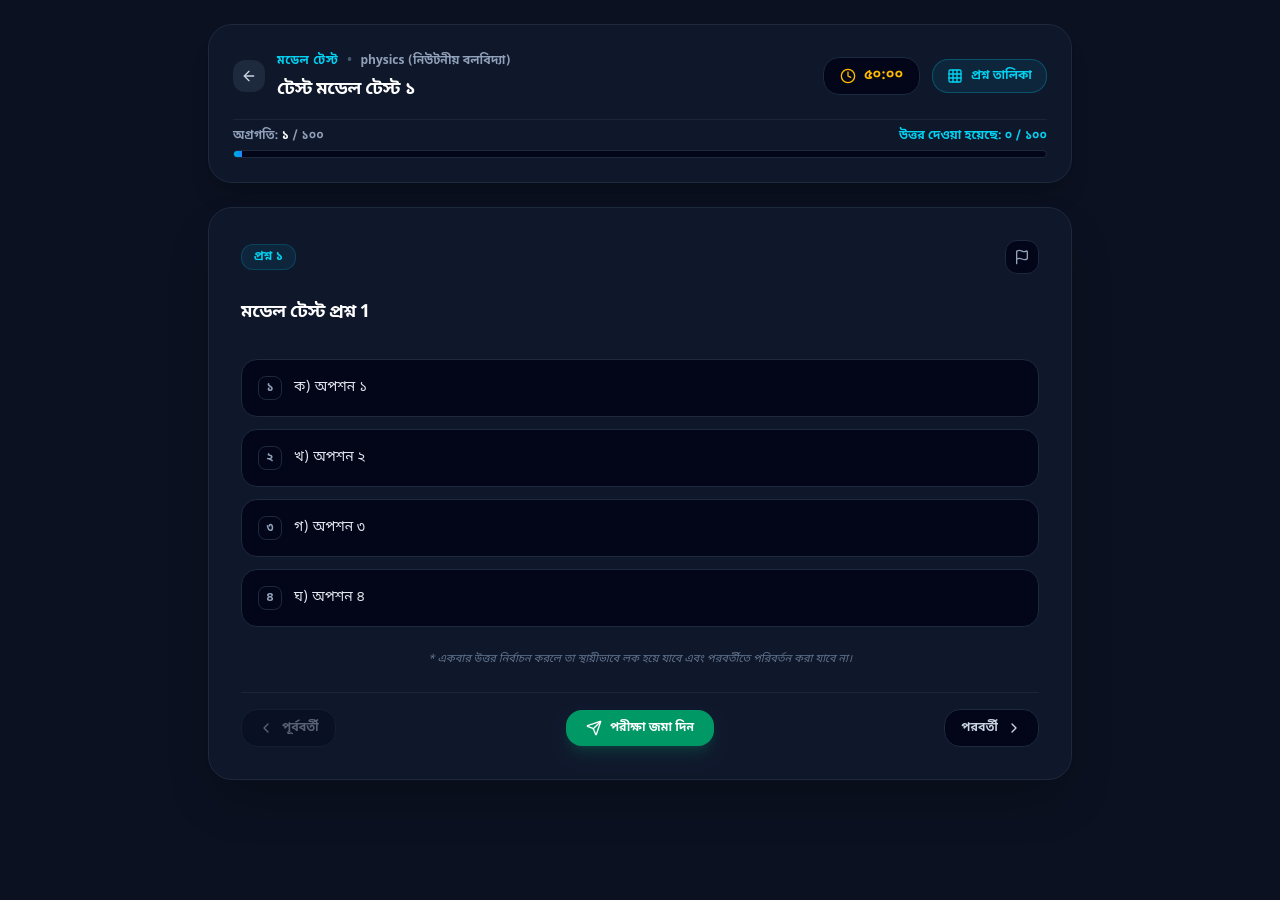
Test: Medical Model Test Requirements & Safeguards › 7. Early Submit shows confirmation modal with answered/unanswered stats
// Click submit button
Click the button "পরীক্ষা জমা দিন". click: [640, 728]
box: 566,710 -> 714,746
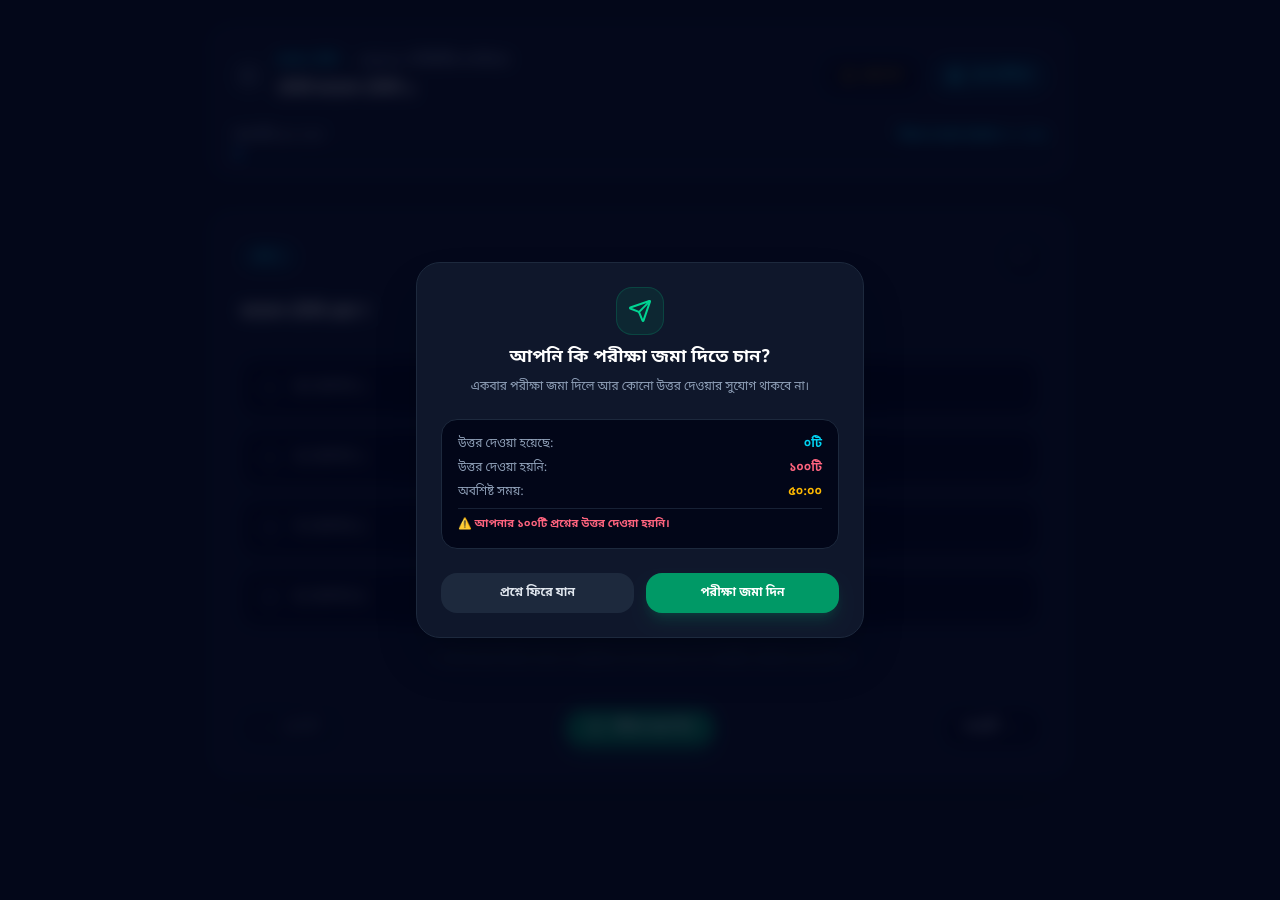
expect the heading "আপনি কি পরীক্ষা জমা দিতে চান?" is shown: met, box 510,345 -> 770,369
expect the text "⚠️ আপনার ১০০টি প্রশ্নের উত্তর দেওয়া হয়নি।" is shown: met, box 458,508 -> 822,532
